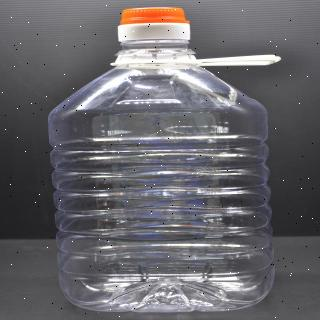Plastic-bottle: (39, 4, 286, 318)
